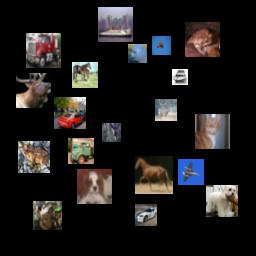airplane: (178, 159, 204, 185), (152, 36, 171, 55)
automobile: (54, 97, 86, 129), (135, 204, 157, 226)
cat: (195, 114, 230, 149)
deer: (16, 73, 51, 108), (155, 99, 177, 121), (102, 123, 121, 142)
dog: (77, 169, 112, 204), (206, 185, 238, 217), (128, 44, 147, 63)
frog: (185, 22, 220, 57), (18, 141, 50, 173), (33, 201, 62, 230)
ship: (98, 7, 133, 42), (172, 69, 188, 85)
truck: (26, 33, 61, 68), (68, 138, 94, 164)
